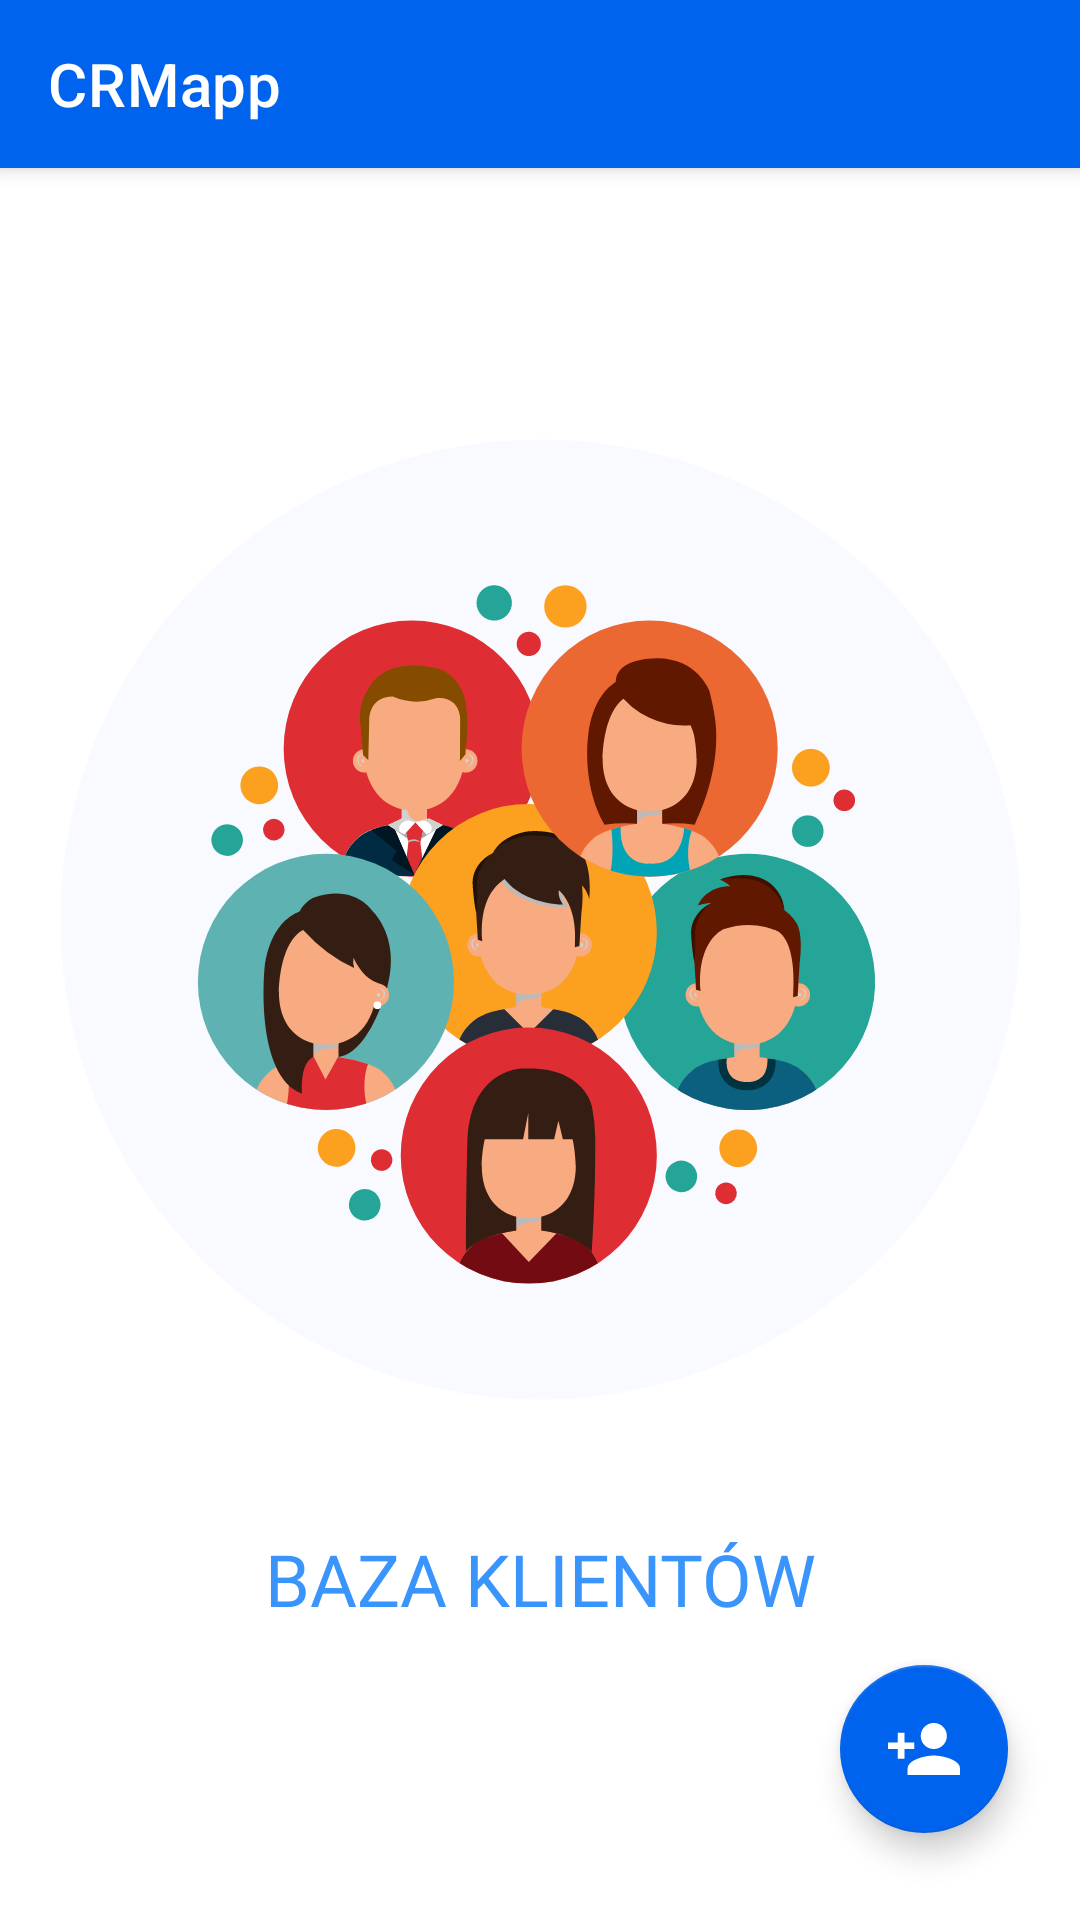

Screen size 1080px x 1920px. Icon name, then its box in pixels as {"left": x1, "top": y1, "right": x2, "bottom": y2}:
person add: {"left": 840, "top": 1665, "right": 1008, "bottom": 1833}
